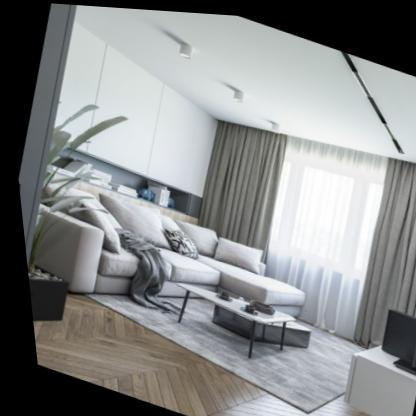Cabinet: (51, 21, 216, 196)
Curtains: (202, 121, 416, 345)
Sofa: (27, 188, 301, 314)
Wooden floor: (26, 294, 372, 416)
